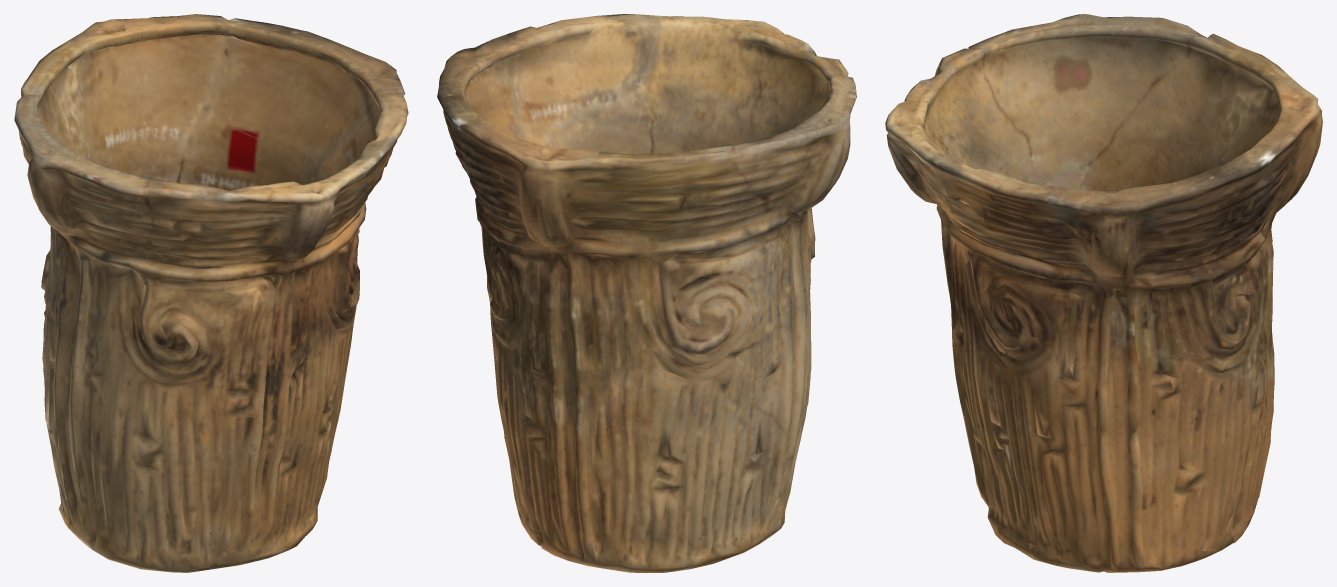
3 renders of one model, left to right at view 1: azimuth 30°, elevation 25°; view 2: azimuth 150°, elevation 25°; view 3: azimuth 270°, elevation 25°, orthographic.
Visible parts, largest first — view 1: IN0003_low; view 2: IN0003_low; view 3: IN0003_low.
Part boxes in pixels (x1,y1,x2,y2): IN0003_low: (14, 14, 408, 572); IN0003_low: (437, 14, 856, 572); IN0003_low: (885, 14, 1322, 572).
Size of the model in its own units: 145 by 158 by 145.
Materials: 1 (1 with a texture image).
